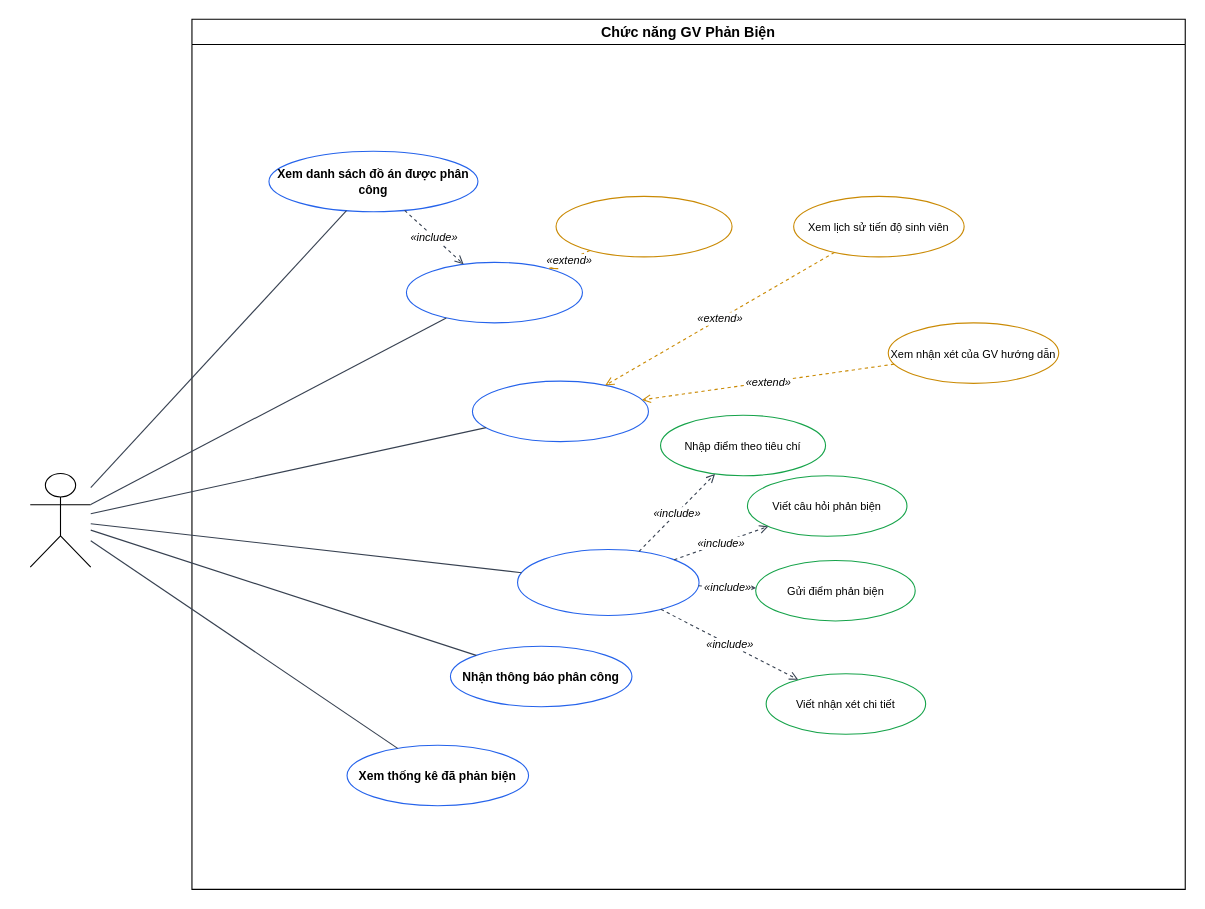
Some shapes in this 1205 by 909 pixel diagram are drawn without their labels. The shapes that lost their labels are listed below. From the top down, each one's centre as x and y in pixels, then its label:
At (x=643, y=226): "Lọc theo kỳ / trạng thái".
At (x=493, y=292): "Xem chi tiết đồ án".
At (x=559, y=411): "Download tài liệu đồ án".
At (x=60, y=519): "GV Phản Biện".
At (x=607, y=581): "Chấm điểm phản biện".
